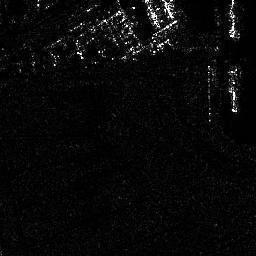ship: (224, 65, 247, 114), (226, 1, 247, 41)
